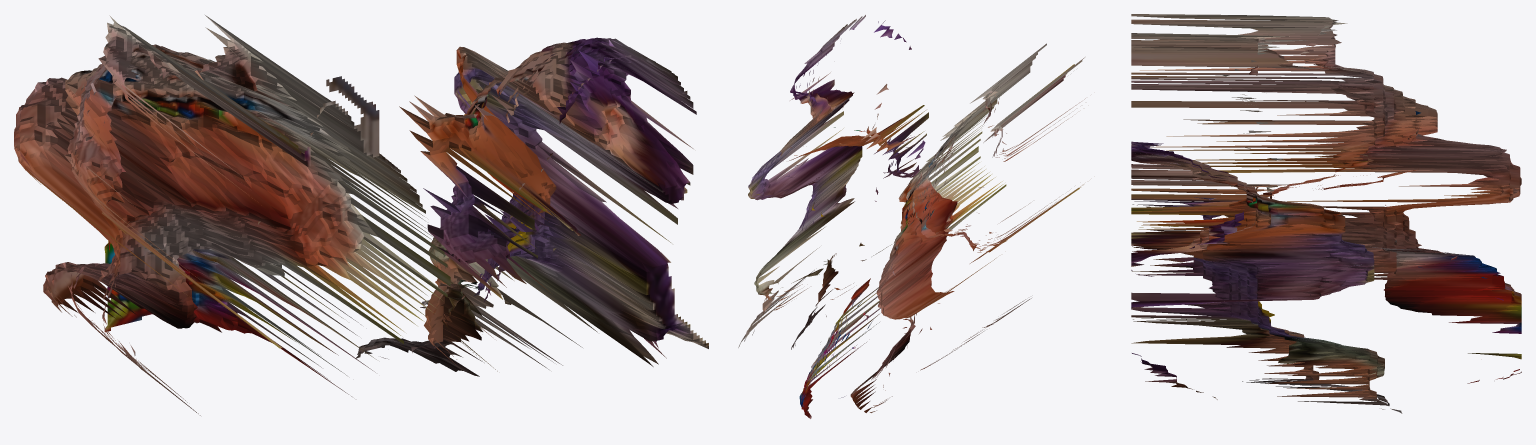
File: frame_00383.glb
The picture shows the model from 3 angles, left to right: view 1: azimuth 30°, elevation 25°; view 2: azimuth 150°, elevation 25°; view 3: azimuth 270°, elevation 25°; orthographic projection. The views are drawn at different scales.
Parts seen in each view (by area): view 1: geometry_0; view 2: geometry_0; view 3: geometry_0.
Boxes of the visible parts, x1=… form: geometry_0: x1=14, y1=15, x2=708, y2=415; geometry_0: x1=738, y1=15, x2=1085, y2=418; geometry_0: x1=1131, y1=14, x2=1521, y2=413.
Size of the model in its own units: 0.1486 by 0.1465 by 0.16.
Materials: 1 (1 with a texture image).
